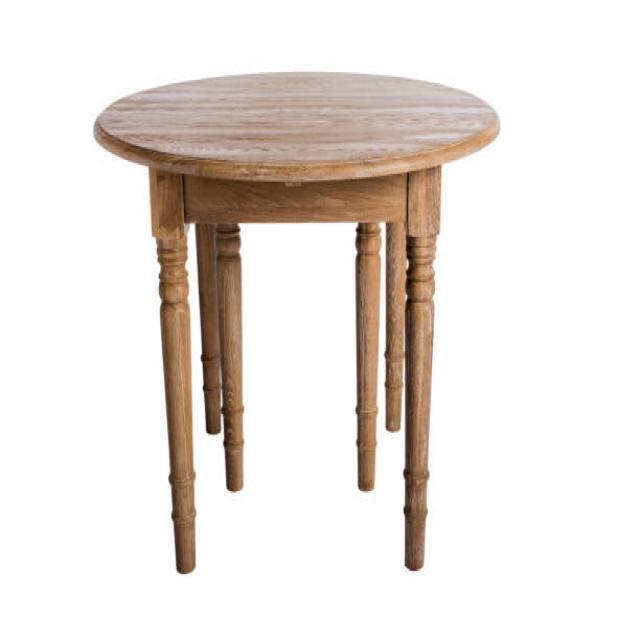table: (92, 69, 501, 574)
